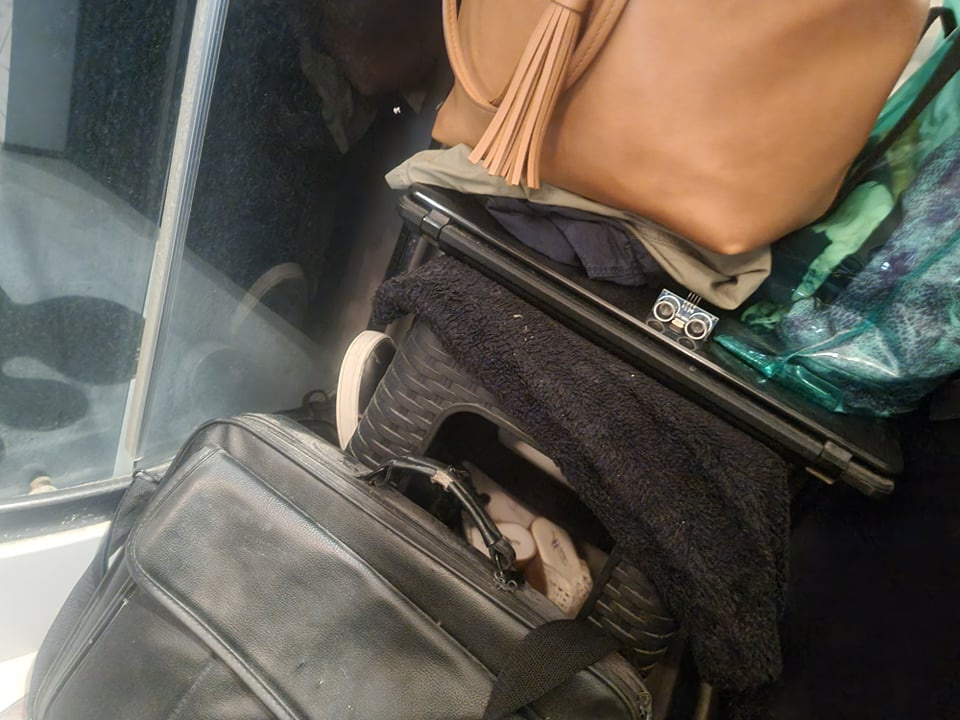SENSOR: (651, 289, 721, 342)
